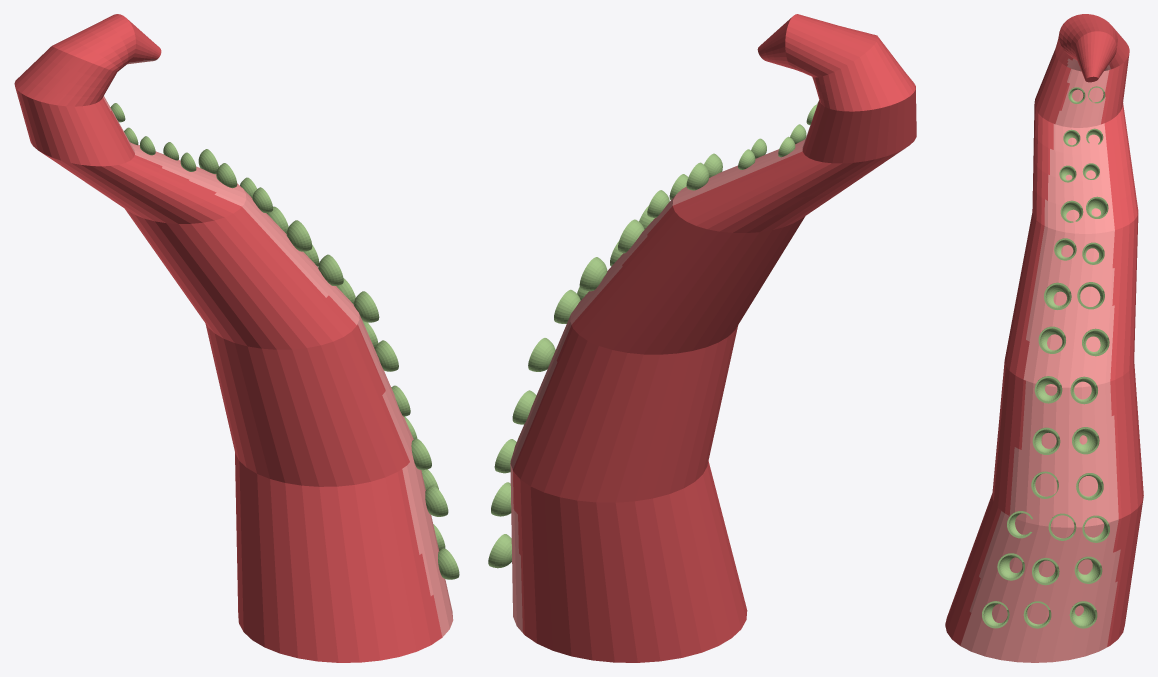
The model's file is Tentacle1.fbx.
The picture shows the model from 3 angles, left to right: view 1: azimuth 30°, elevation 25°; view 2: azimuth 150°, elevation 25°; view 3: azimuth 270°, elevation 25°; orthographic projection. The views are drawn at different scales.
Visible parts, largest first — view 1: Cylinder; view 2: Cylinder; view 3: Cylinder.
Boxes of the visible parts, x1=… form: Cylinder: x1=14, y1=14, x2=459, y2=662; Cylinder: x1=488, y1=14, x2=916, y2=662; Cylinder: x1=945, y1=14, x2=1143, y2=662.
Bounding box in the file's own units: 414 × 636 × 221.
